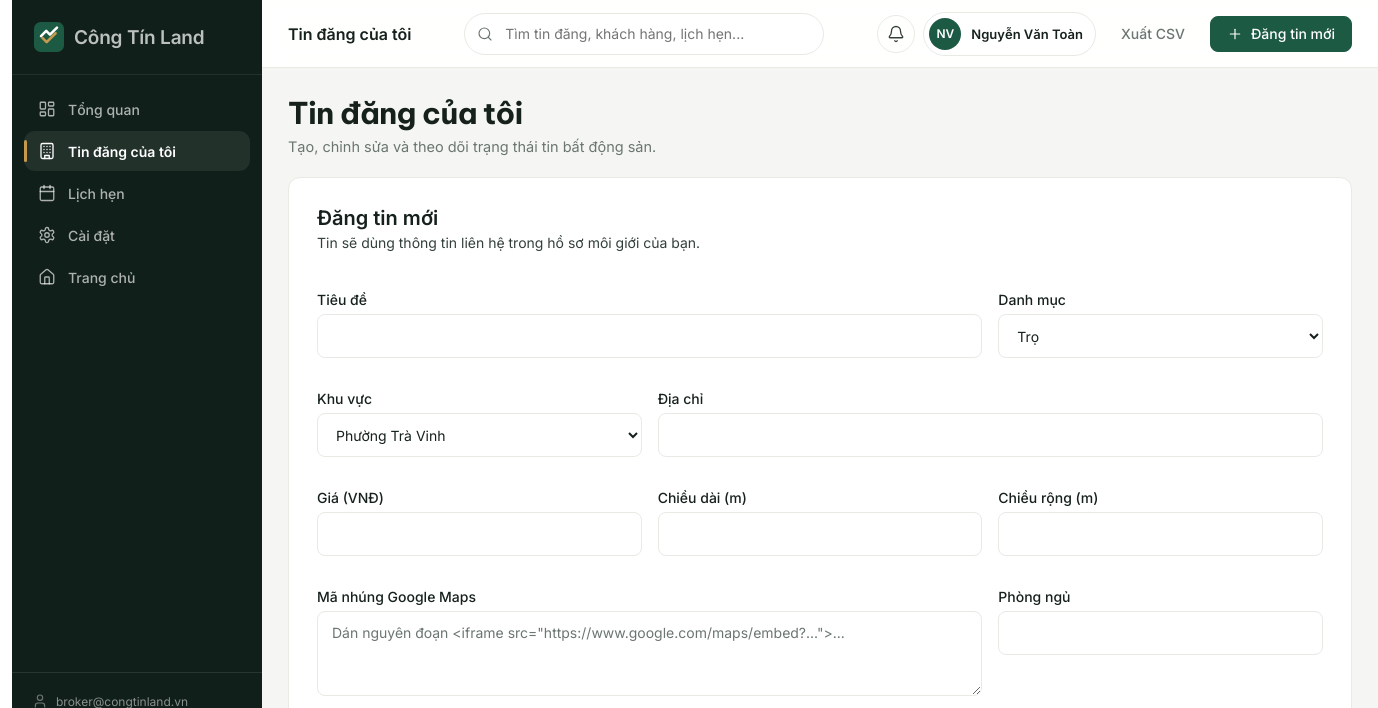
Test: Listing form — field visibility › hides Phòng ngủ / Nhà vệ sinh when category is changed to Đất
Step 1. Select "Đất" in the dropdown below "Danh mục" → {"x": 1161, "y": 336}, box 998,314 -> 1323,358
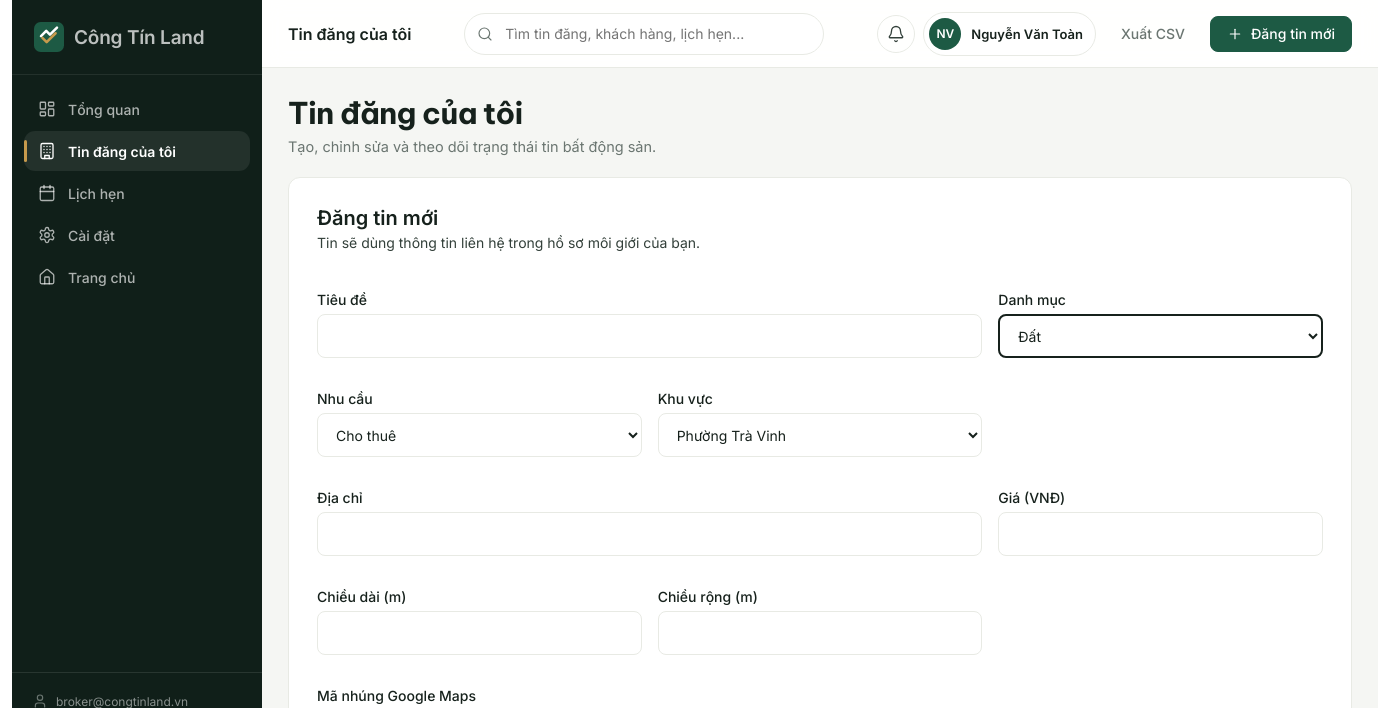
Result: the text "Phòng ngủ" is gone
